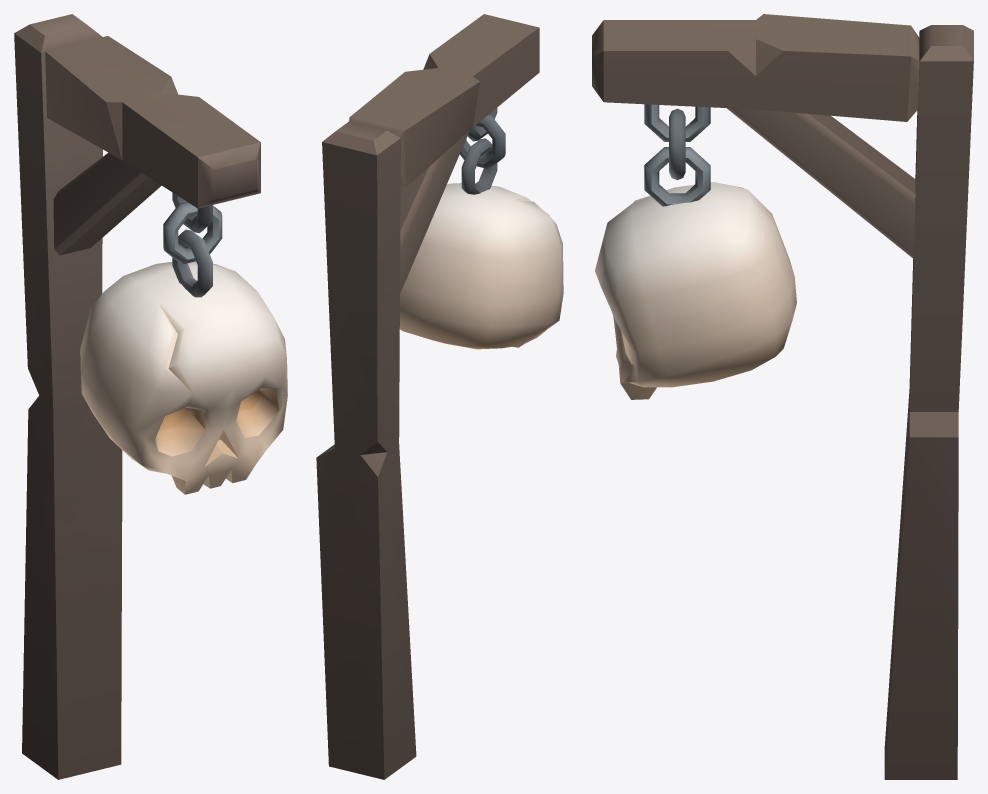
Rendered from post_skull.glb.
3 views of the same model, side by side, from view 1: azimuth 30°, elevation 25°; view 2: azimuth 150°, elevation 25°; view 3: azimuth 270°, elevation 25° (orthographic). The views are drawn at different scales.
Visible parts, largest first — view 1: post_skull, post_skull_skull; view 2: post_skull, post_skull_skull; view 3: post_skull, post_skull_skull.
Boxes of the visible parts, <box> form: post_skull: <box>14,14,260,779</box>; post_skull_skull: <box>80,192,287,494</box>; post_skull: <box>316,14,539,779</box>; post_skull_skull: <box>399,108,563,349</box>; post_skull: <box>592,14,973,779</box>; post_skull_skull: <box>595,104,796,399</box>.
Size of the model in its own units: 0.8091 by 3.3 by 1.57.
Materials: 1 (1 with a texture image).
